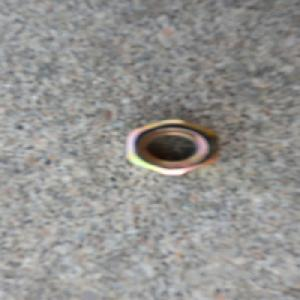Nut: (121, 118, 221, 178)
